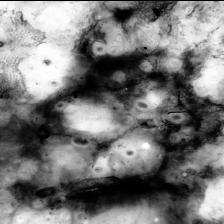Potentially Malignant Skin Tumors: (25, 29, 224, 207)
